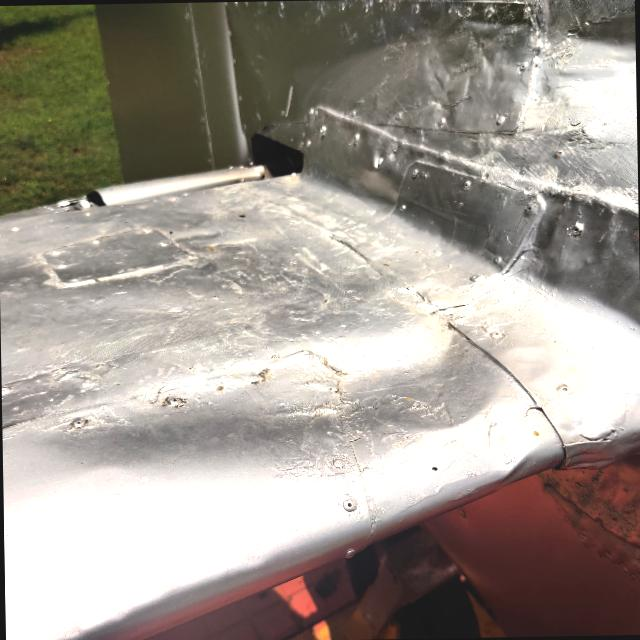dent: (35, 269, 521, 512)
